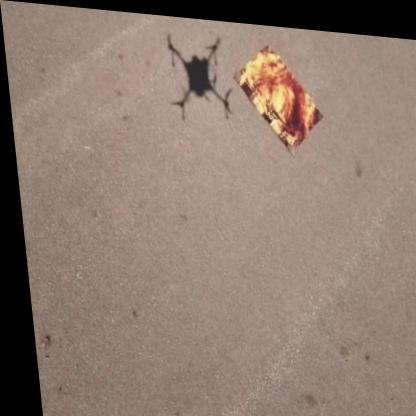fire-poster: (228, 35, 326, 154)
